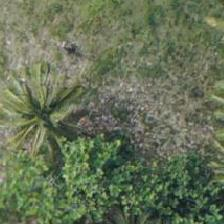coconut_tree: (0, 71, 84, 161)
